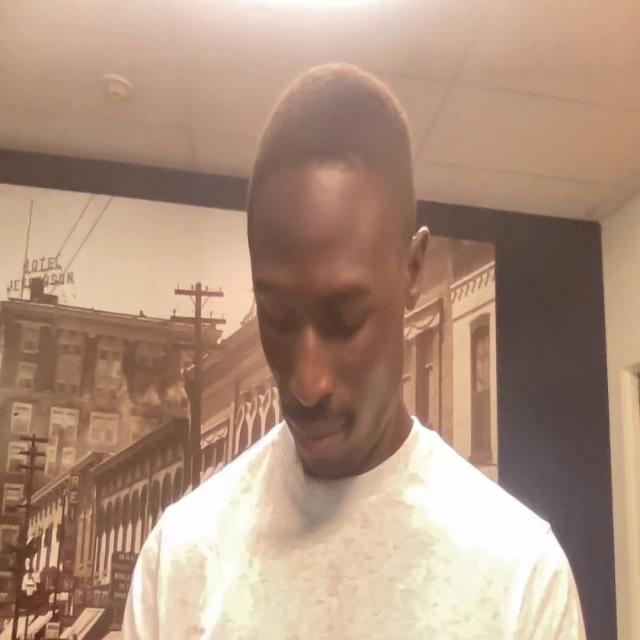face: (250, 185, 428, 481)
